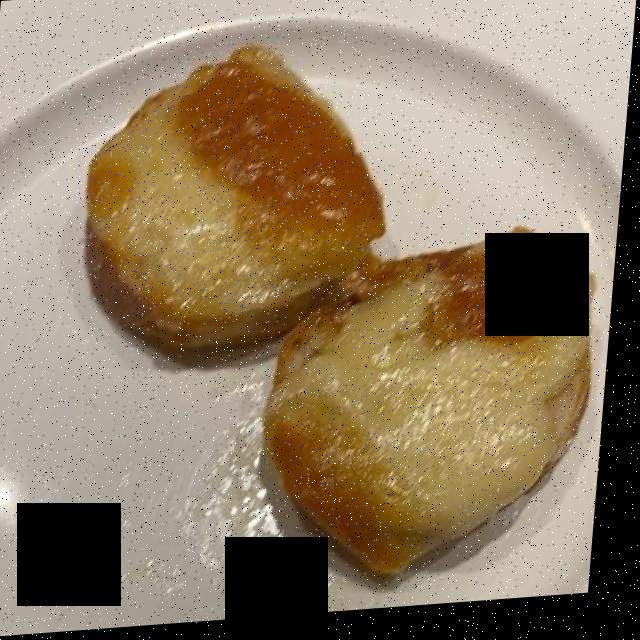bread-white: (73, 65, 603, 559)
cheese: (95, 69, 599, 539)
